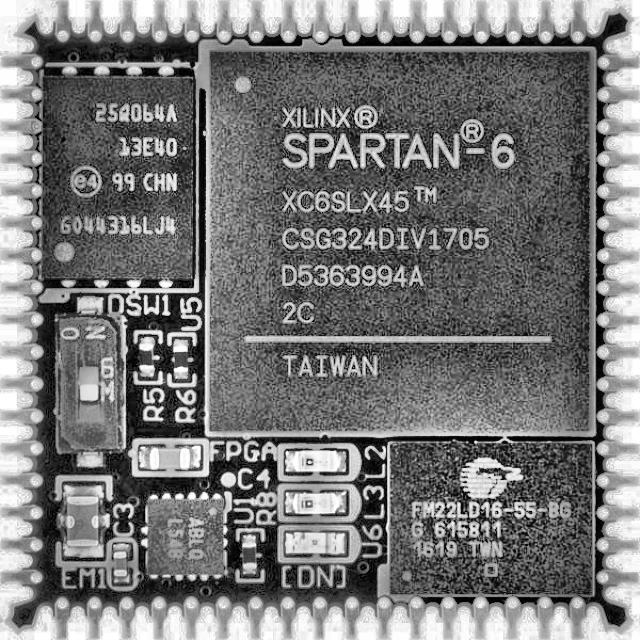PCB: (2, 4, 635, 640)
